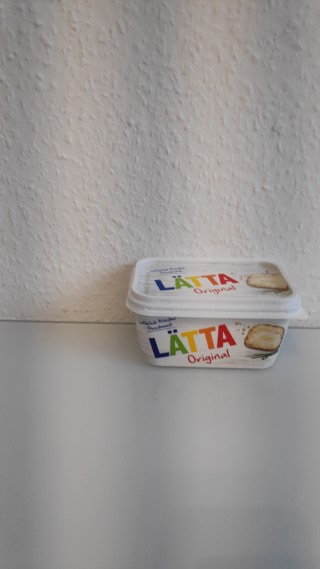laetta: (123, 255, 309, 371)
